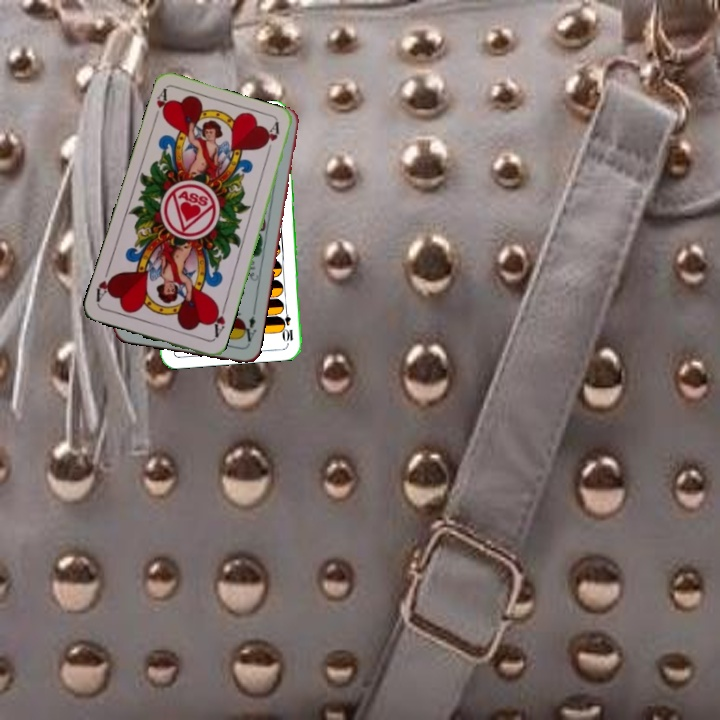E10: (279, 303, 296, 344)
EA: (237, 307, 259, 348)
HA: (149, 85, 173, 125), (207, 302, 228, 342)
